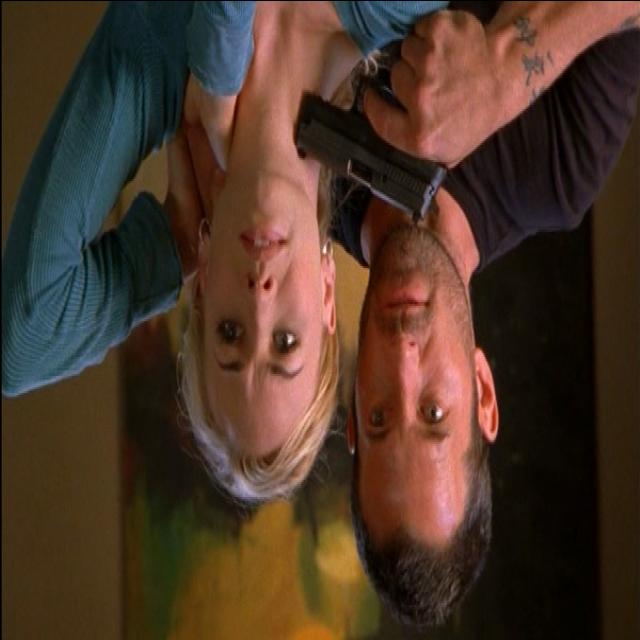weapons: (289, 37, 466, 247)
